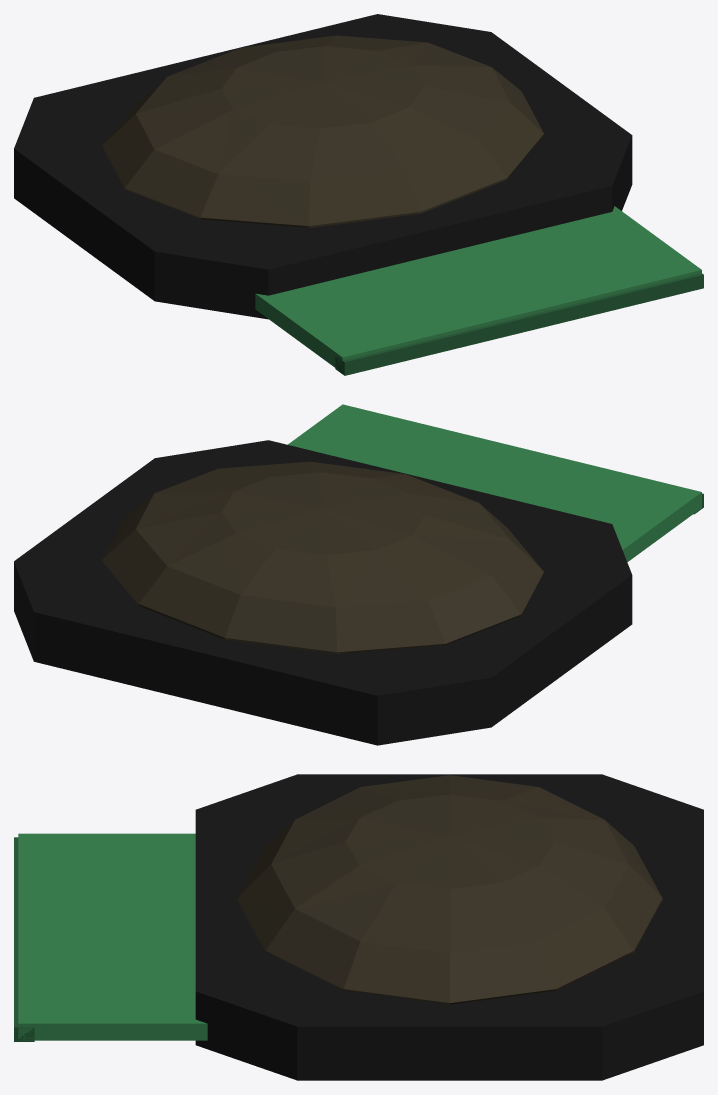
Rendered from eyeshade.glb.
3 views of the same model, one above another, from view 1: azimuth 30°, elevation 25°; view 2: azimuth 150°, elevation 25°; view 3: azimuth 270°, elevation 25° (orthographic). The views are drawn at different scales.
Visible parts, largest first — view 1: Dealer's Eyeshade.001; view 2: Dealer's Eyeshade.001; view 3: Dealer's Eyeshade.001.
Boxes of the visible parts, bbox=[...] form: Dealer's Eyeshade.001: bbox=[14, 14, 703, 375]; Dealer's Eyeshade.001: bbox=[14, 404, 703, 745]; Dealer's Eyeshade.001: bbox=[14, 774, 703, 1080].
Size of the model in its own units: 0.6787 by 0.1476 by 0.7846.
